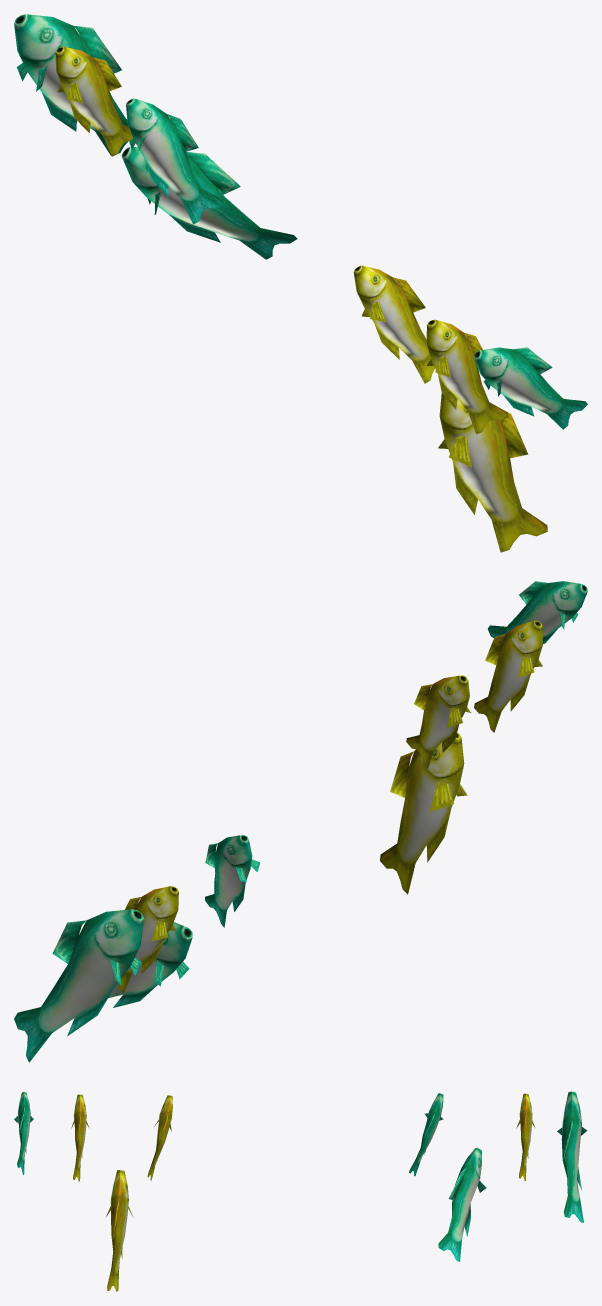
File: nml-bd167.glb
3 renders of one model, top to bottom at view 1: azimuth 30°, elevation 25°; view 2: azimuth 150°, elevation 25°; view 3: azimuth 270°, elevation 25°, orthographic. The views are drawn at different scales.
Parts seen in each view (by area): view 1: geom_node_0, geom_node_2, geom_node_4, geom_node_1, geom_node_7, geom_node_3, geom_node_6, geom_node_5; view 2: geom_node_4, geom_node_0, geom_node_5, geom_node_7, geom_node_6, geom_node_1, geom_node_3, geom_node_2; view 3: geom_node_2, geom_node_4, geom_node_0, geom_node_3, geom_node_1, geom_node_5, geom_node_6, geom_node_7.
Boxes of the visible parts, x1=… form: geom_node_0: x1=438, y1=393, x2=547, y2=552; geom_node_2: x1=121, y1=147, x2=297, y2=259; geom_node_4: x1=14, y1=14, x2=128, y2=155; geom_node_1: x1=126, y1=98, x2=223, y2=224; geom_node_7: x1=353, y1=265, x2=434, y2=383; geom_node_3: x1=55, y1=46, x2=132, y2=156; geom_node_6: x1=474, y1=347, x2=587, y2=429; geom_node_5: x1=426, y1=319, x2=508, y2=434; geom_node_4: x1=14, y1=909, x2=143, y2=1062; geom_node_0: x1=380, y1=732, x2=467, y2=894; geom_node_5: x1=474, y1=620, x2=542, y2=732; geom_node_7: x1=406, y1=675, x2=470, y2=768; geom_node_6: x1=488, y1=581, x2=587, y2=643; geom_node_1: x1=205, y1=835, x2=260, y2=927; geom_node_3: x1=119, y1=886, x2=178, y2=993; geom_node_2: x1=108, y1=922, x2=192, y2=1007; geom_node_2: x1=438, y1=1147, x2=486, y2=1261; geom_node_4: x1=557, y1=1091, x2=587, y2=1222; geom_node_0: x1=105, y1=1170, x2=133, y2=1291; geom_node_3: x1=516, y1=1093, x2=535, y2=1180; geom_node_1: x1=409, y1=1093, x2=443, y2=1176; geom_node_5: x1=71, y1=1094, x2=89, y2=1181; geom_node_6: x1=14, y1=1091, x2=33, y2=1174; geom_node_7: x1=147, y1=1095, x2=172, y2=1180.
Size of the model in its own units: 1.76 by 2.82 by 8.56.
Materials: 8 (8 with a texture image).
